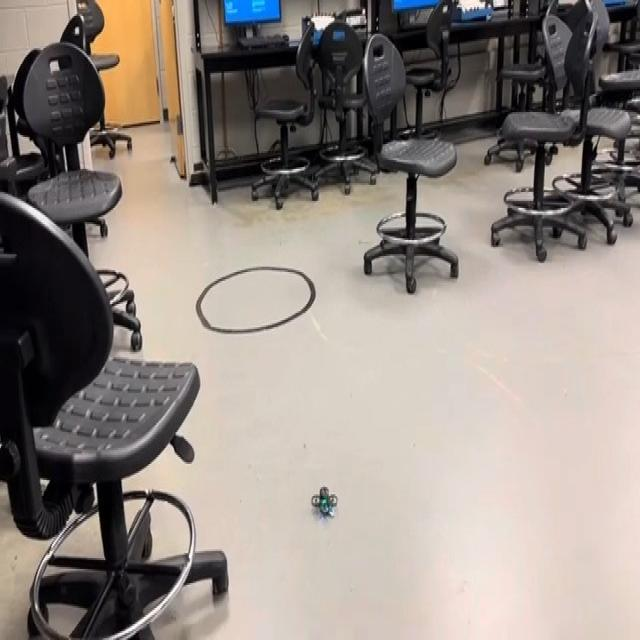drone: (307, 472, 345, 528)
